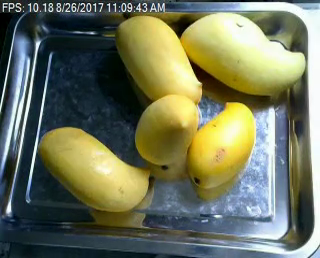Mango: (37, 123, 152, 214), (180, 14, 306, 95), (114, 13, 202, 105), (185, 99, 257, 193), (135, 95, 199, 167)
